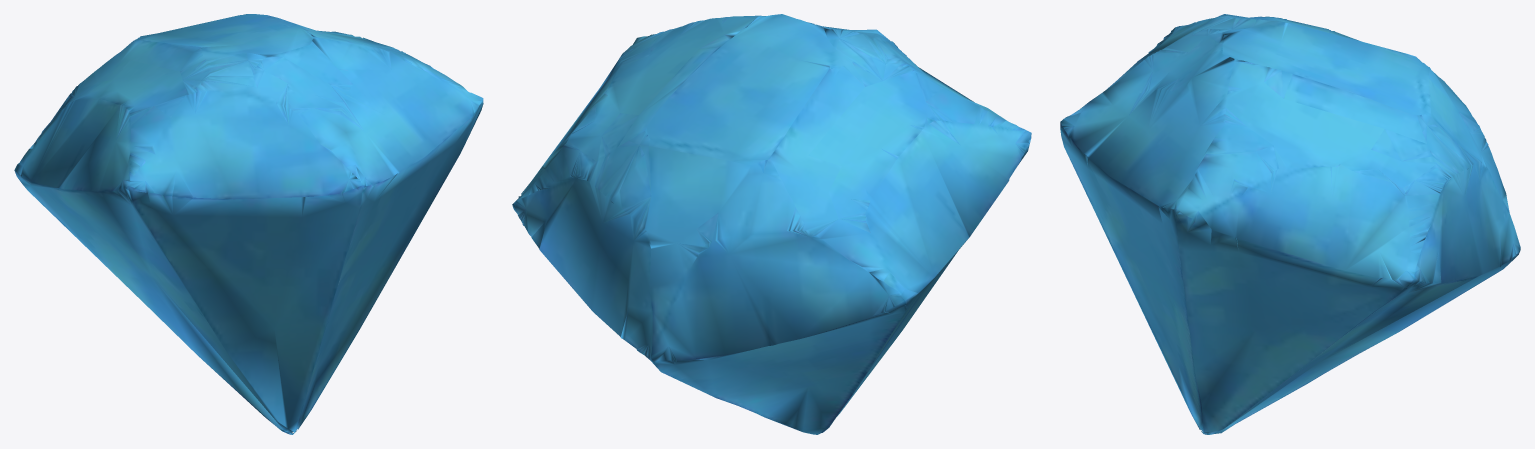
The model's file is gem.glb.
3 views of the same model, side by side, from view 1: azimuth 30°, elevation 25°; view 2: azimuth 150°, elevation 25°; view 3: azimuth 270°, elevation 25° (orthographic). The views are drawn at different scales.
Visible parts, largest first — view 1: tripo_node_f0e79001-0f1c-4344-bba7-404dd157826a; view 2: tripo_node_f0e79001-0f1c-4344-bba7-404dd157826a; view 3: tripo_node_f0e79001-0f1c-4344-bba7-404dd157826a.
Boxes of the visible parts, left/top/right/bottom form: tripo_node_f0e79001-0f1c-4344-bba7-404dd157826a: left=14, top=14, right=483, bottom=434; tripo_node_f0e79001-0f1c-4344-bba7-404dd157826a: left=512, top=14, right=1031, bottom=434; tripo_node_f0e79001-0f1c-4344-bba7-404dd157826a: left=1060, top=14, right=1520, bottom=434.
Size of the model in its own units: 0.9609 by 0.9433 by 0.998.
Materials: 1 (1 with a texture image).
